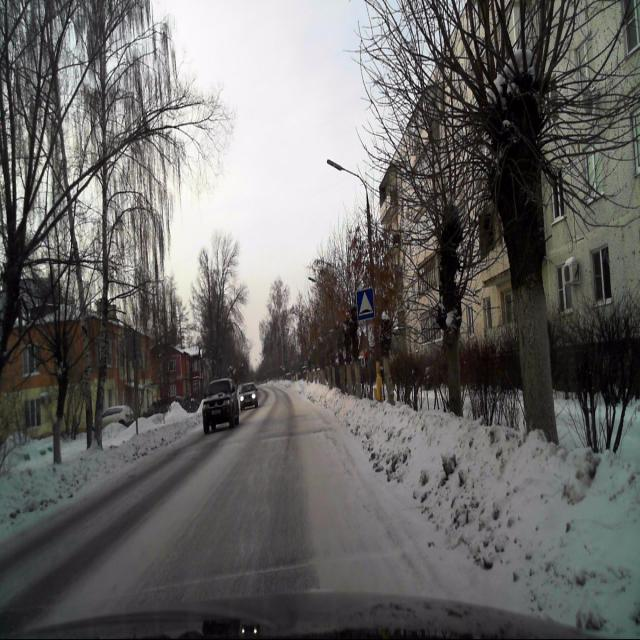road sign: (356, 286, 376, 319)
